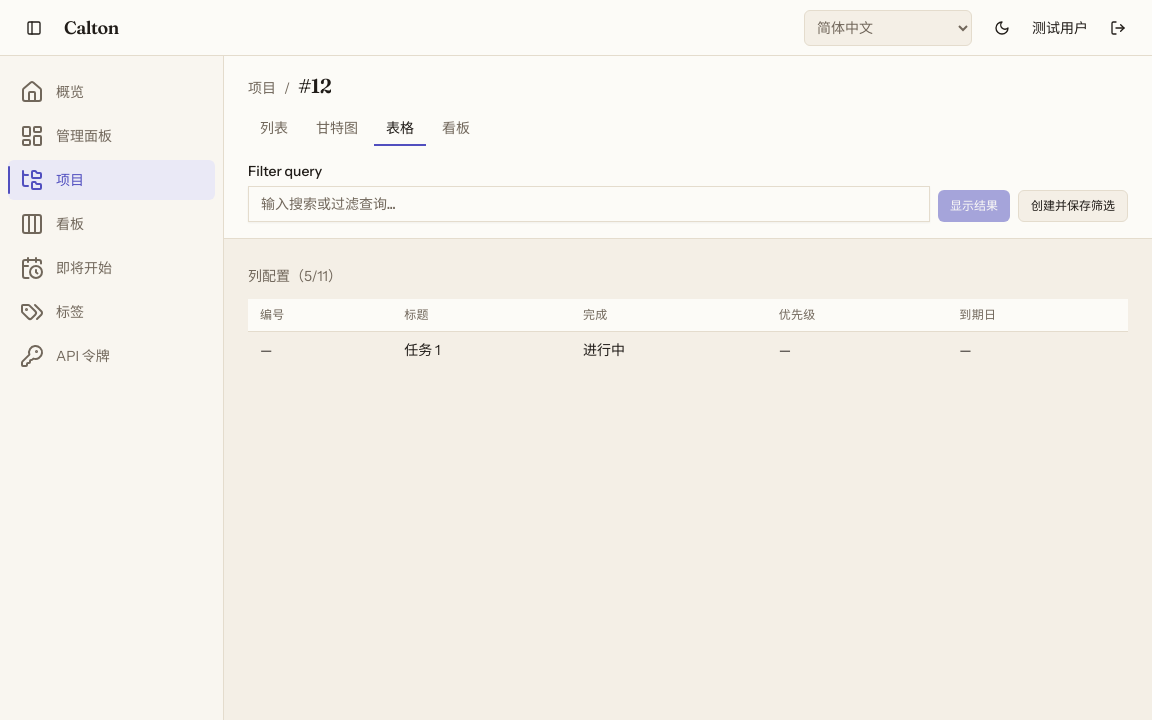
Scenario: ★ Table 视图：sort_by / order_by 按下标成对 › 三态循环：再点一次取消该列排序
The width and height of the screenshot is (1152, 720).
Check: the row with test id "task-table-row" is shown, box [248, 332, 1128, 368]
Click the button "标题" at [416, 315], box [404, 307, 429, 323]
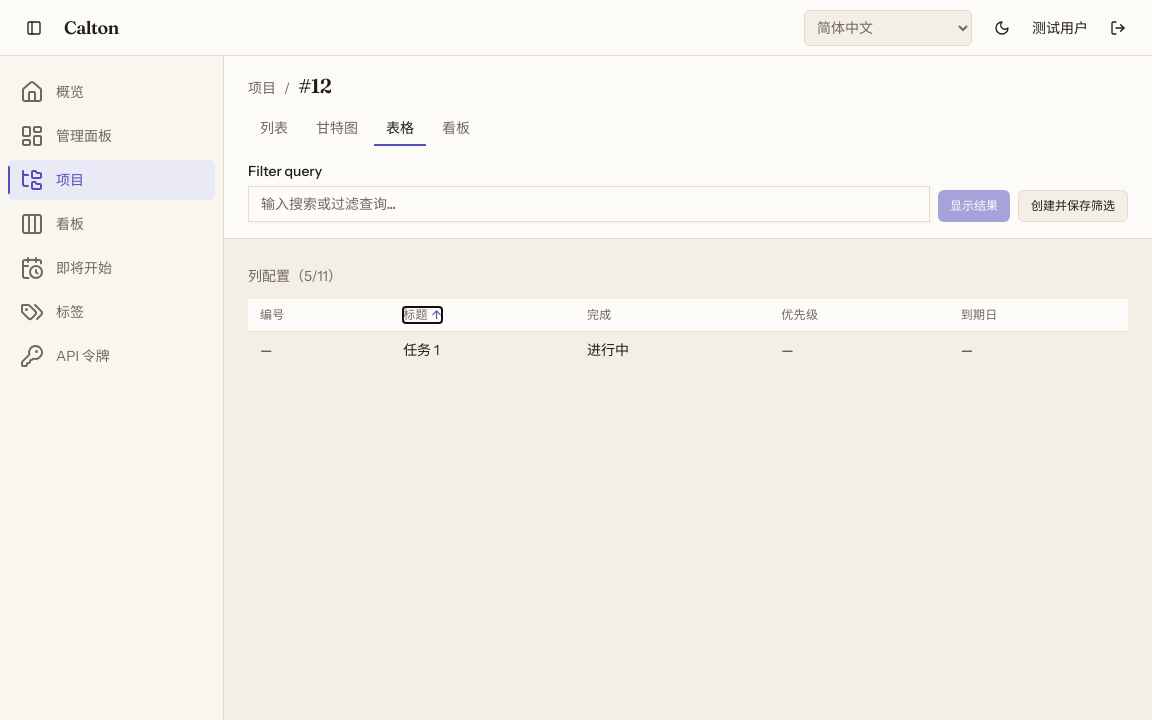
Click the button "标题 ↑" at [422, 315], box [403, 307, 442, 323]
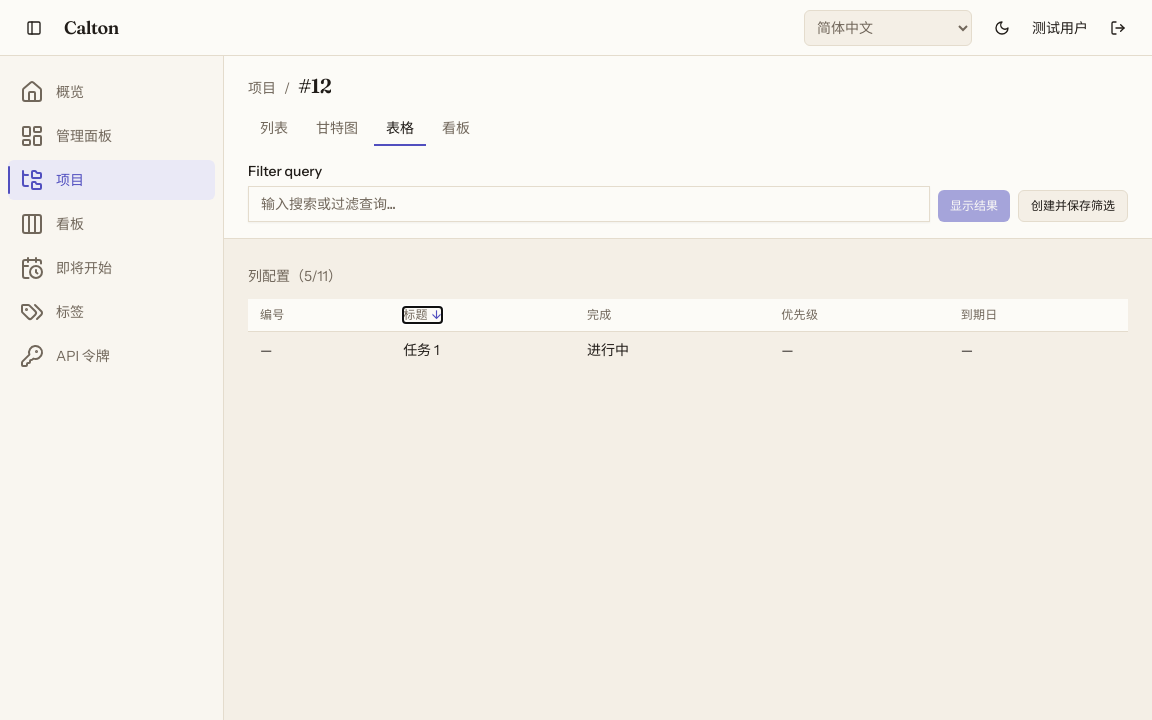
Click the button "标题 ↓" at [422, 315], box [403, 307, 442, 323]
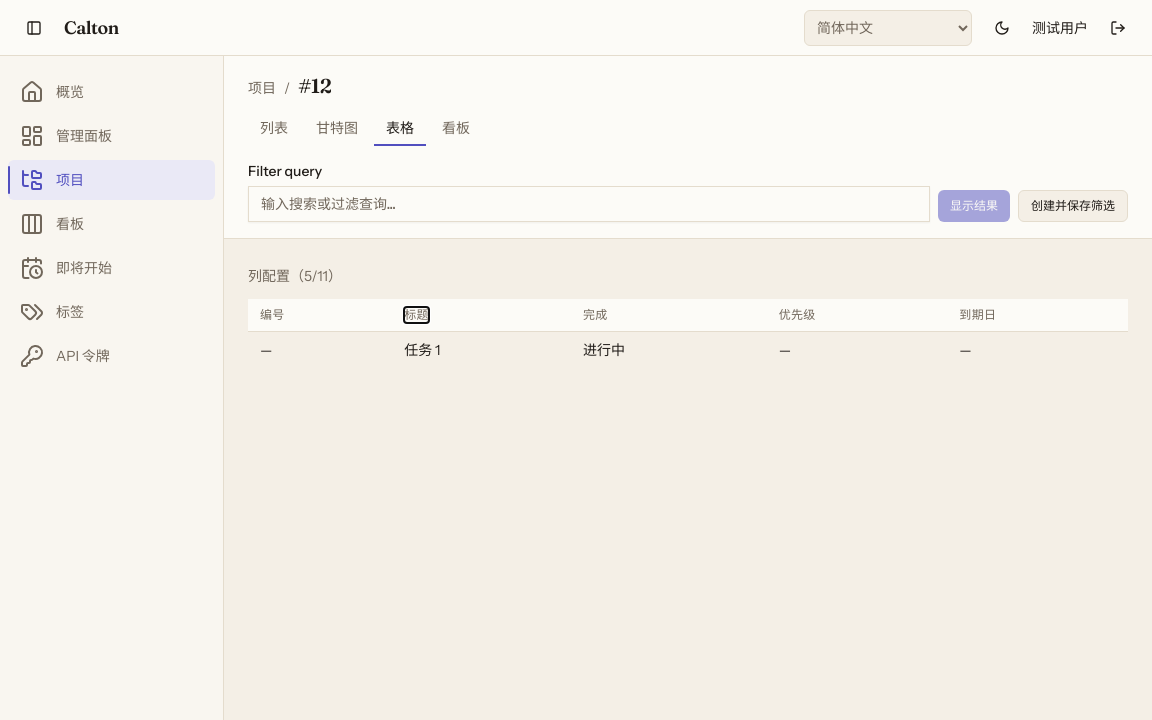
Check: the text with test id "sort-marker-title" is gone
